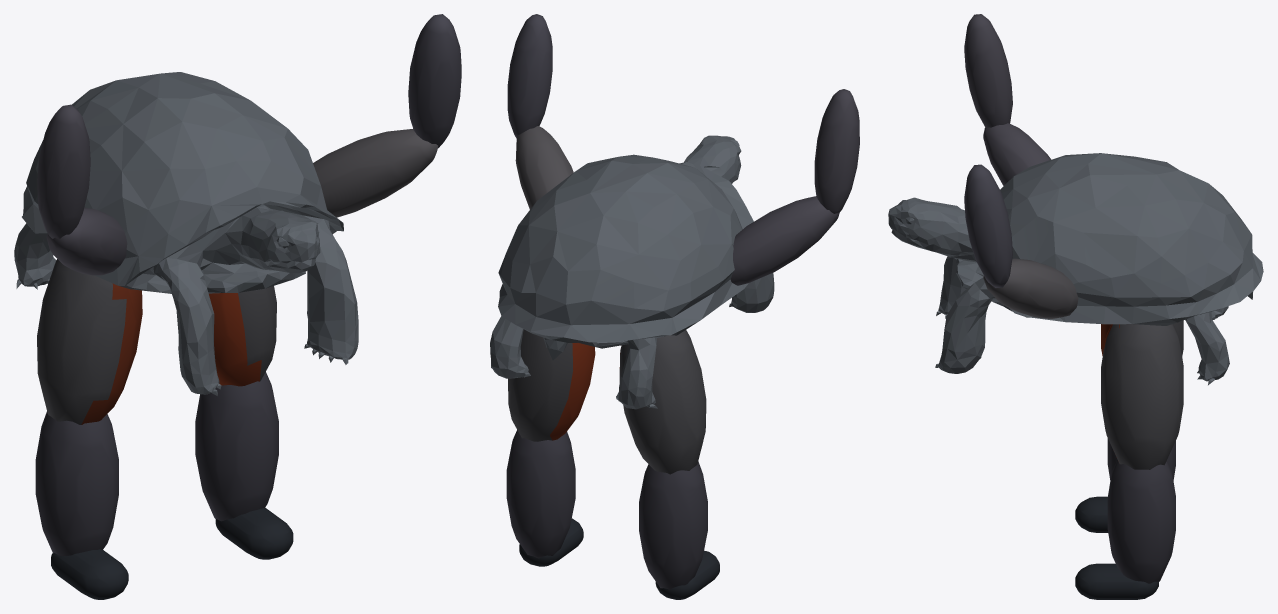
The model's file is turtle2.glb.
The picture shows the model from 3 angles, left to right: view 1: azimuth 30°, elevation 25°; view 2: azimuth 150°, elevation 25°; view 3: azimuth 270°, elevation 25°; orthographic projection. The views are drawn at different scales.
Visible parts, largest first — view 1: footR.001; view 2: footR.001; view 3: footR.001.
Part boxes in pixels (x1=…): footR.001: x1=14, y1=14, x2=461, y2=599; footR.001: x1=490, y1=14, x2=859, y2=599; footR.001: x1=888, y1=14, x2=1263, y2=599.
Bounding box in the file's own units: 8.1 × 10.53 × 7.58.
